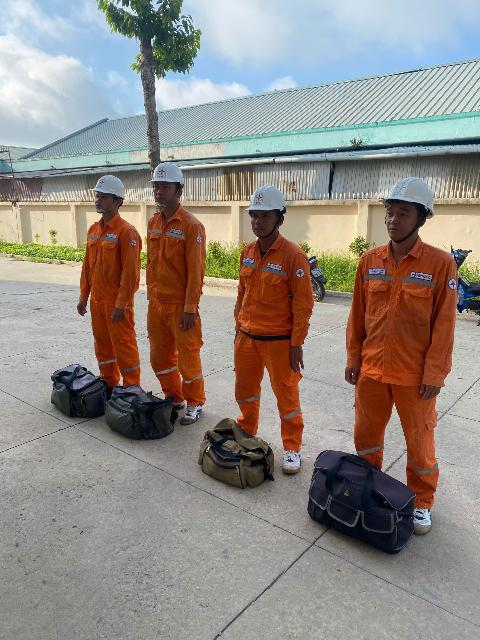helmet: (376, 170, 441, 221), (244, 183, 290, 218), (145, 157, 190, 192), (90, 172, 136, 204)
shoes: (406, 501, 435, 538), (172, 396, 209, 424), (281, 446, 304, 476), (166, 397, 186, 415)
